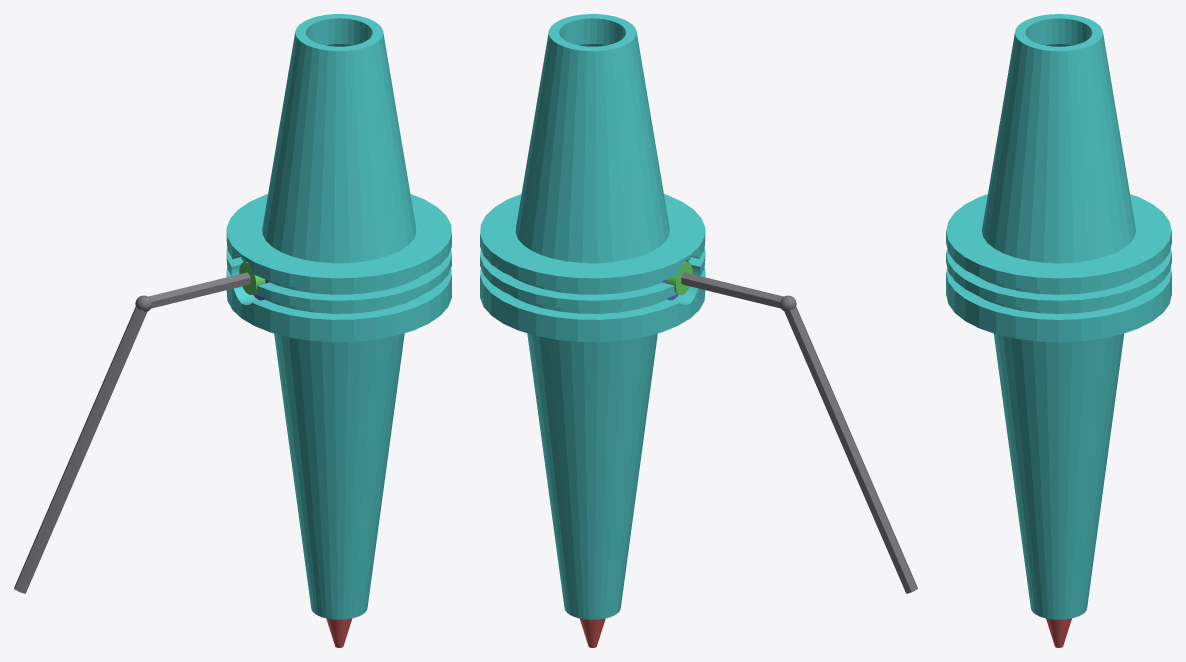
Rendered from tool-holder-full.glb.
The picture shows the model from 3 angles, left to right: view 1: azimuth 30°, elevation 25°; view 2: azimuth 150°, elevation 25°; view 3: azimuth 270°, elevation 25°; orthographic projection.
Visible parts, largest first — view 1: holder_body, hex_key; view 2: holder_body, hex_key; view 3: holder_body, tool_insert_red.
Boxes of the visible parts, <box> form: holder_body: <box>226,14,451,619</box>; hex_key: <box>14,272,250,593</box>; holder_body: <box>480,14,705,619</box>; hex_key: <box>681,272,917,593</box>; holder_body: <box>946,14,1171,619</box>; tool_insert_red: <box>1046,618,1071,647</box>.
Bounding box in the file's own units: 0.1384 × 0.192 × 0.064.
